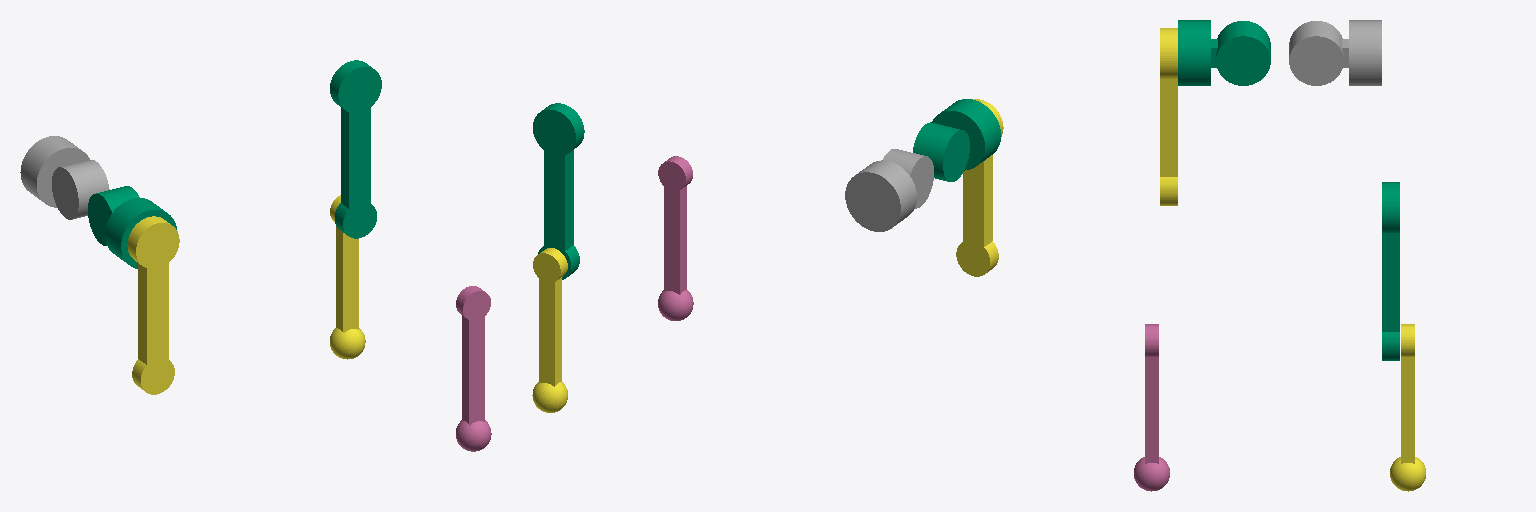
URDF robot description (robot_dog):
<?xml version="1.0"?>
<!-- Generated by tools/generate_description.py from the Fusion export. Do not edit by hand. -->
<robot name="robot_dog">
  <link name="base_link">
    <inertial>
      <origin xyz="0.00620128 0 0.00442227" rpy="0 0 0"/>
      <mass value="4.13176"/>
      <inertia ixx="0.00788716" ixy="0" ixz="-0.00161128" iyy="0.0506551" iyz="0" izz="0.0512174"/>
    </inertial>
    <visual>
      <origin xyz="0 0 0" rpy="0 0 0"/>
      <geometry><mesh filename="../meshes/base_link.stl"/></geometry>
    </visual>
    <collision name="base_link_collision_0">
      <origin xyz="0 0 0" rpy="0 0 0"/>
      <geometry><box size="0.34 0.11 0.09"/></geometry>
    </collision>
  </link>
  <link name="FL_hip">
    <inertial>
      <origin xyz="0 0.0305117 0" rpy="0 0 0"/>
      <mass value="0.71172"/>
      <inertia ixx="0.000811641" ixy="0" ixz="0" iyy="0.000366936" iyz="0" izz="0.0007836"/>
    </inertial>
    <visual>
      <origin xyz="0 0 0" rpy="0 0 0"/>
      <geometry><mesh filename="../meshes/FL_hip.stl"/></geometry>
    </visual>
    <collision name="FL_hip_collision_0">
      <origin xyz="0 0 0" rpy="0 1.5708 0"/>
      <geometry><cylinder radius="0.03" length="0.04"/></geometry>
    </collision>
    <collision name="FL_hip_collision_1">
      <origin xyz="0 0.054 0" rpy="1.5708 0 0"/>
      <geometry><cylinder radius="0.036" length="0.036"/></geometry>
    </collision>
  </link>
  <link name="FL_thigh">
    <inertial>
      <origin xyz="0 -0.0185 -0.070855" rpy="0 0 0"/>
      <mass value="0.366391"/>
      <inertia ixx="0.00149621" ixy="0" ixz="0" iyy="0.0015302" iyz="0" izz="5.60281e-05"/>
    </inertial>
    <visual>
      <origin xyz="0 0 0" rpy="0 0 0"/>
      <geometry><mesh filename="../meshes/FL_thigh.stl"/></geometry>
    </visual>
    <collision name="FL_thigh_collision_0">
      <origin xyz="0 -0.0185 -0.08" rpy="0 0 0"/>
      <geometry><box size="0.028 0.019 0.16"/></geometry>
    </collision>
  </link>
  <link name="FL_calf">
    <inertial>
      <origin xyz="0 0 -0.095732" rpy="0 0 0"/>
      <mass value="0.0969247"/>
      <inertia ixx="0.000379881" ixy="0" ixz="0" iyy="0.000381502" iyz="0" izz="9.4131e-06"/>
    </inertial>
    <visual>
      <origin xyz="0 0 0" rpy="0 0 0"/>
      <geometry><mesh filename="../meshes/FL_calf.stl"/></geometry>
    </visual>
    <collision name="FL_calf_collision_0">
      <origin xyz="0 0 -0.07" rpy="0 0 0"/>
      <geometry><box size="0.02 0.016 0.14"/></geometry>
    </collision>
    <collision name="FL_foot_collision">
      <origin xyz="0 0 -0.16" rpy="0 0 0"/>
      <geometry><sphere radius="0.02"/></geometry>
    </collision>
  </link>
  <link name="FR_hip">
    <inertial>
      <origin xyz="0 -0.0305117 0" rpy="0 0 0"/>
      <mass value="0.71172"/>
      <inertia ixx="0.000811641" ixy="0" ixz="0" iyy="0.000366936" iyz="0" izz="0.0007836"/>
    </inertial>
    <visual>
      <origin xyz="0 0 0" rpy="0 0 0"/>
      <geometry><mesh filename="../meshes/FR_hip.stl"/></geometry>
    </visual>
    <collision name="FR_hip_collision_0">
      <origin xyz="0 0 0" rpy="0 1.5708 0"/>
      <geometry><cylinder radius="0.03" length="0.04"/></geometry>
    </collision>
    <collision name="FR_hip_collision_1">
      <origin xyz="0 -0.054 0" rpy="1.5708 0 0"/>
      <geometry><cylinder radius="0.036" length="0.036"/></geometry>
    </collision>
  </link>
  <link name="FR_thigh">
    <inertial>
      <origin xyz="0 0.0185 -0.070855" rpy="0 0 0"/>
      <mass value="0.366391"/>
      <inertia ixx="0.00149621" ixy="0" ixz="0" iyy="0.0015302" iyz="0" izz="5.60281e-05"/>
    </inertial>
    <visual>
      <origin xyz="0 0 0" rpy="0 0 0"/>
      <geometry><mesh filename="../meshes/FR_thigh.stl"/></geometry>
    </visual>
    <collision name="FR_thigh_collision_0">
      <origin xyz="0 0.0185 -0.08" rpy="0 0 0"/>
      <geometry><box size="0.028 0.019 0.16"/></geometry>
    </collision>
  </link>
  <link name="FR_calf">
    <inertial>
      <origin xyz="0 0 -0.095732" rpy="0 0 0"/>
      <mass value="0.0969247"/>
      <inertia ixx="0.000379881" ixy="0" ixz="0" iyy="0.000381502" iyz="0" izz="9.4131e-06"/>
    </inertial>
    <visual>
      <origin xyz="0 0 0" rpy="0 0 0"/>
      <geometry><mesh filename="../meshes/FR_calf.stl"/></geometry>
    </visual>
    <collision name="FR_calf_collision_0">
      <origin xyz="0 0 -0.07" rpy="0 0 0"/>
      <geometry><box size="0.02 0.016 0.14"/></geometry>
    </collision>
    <collision name="FR_foot_collision">
      <origin xyz="0 0 -0.16" rpy="0 0 0"/>
      <geometry><sphere radius="0.02"/></geometry>
    </collision>
  </link>
  <link name="RL_hip">
    <inertial>
      <origin xyz="0 0.0305117 0" rpy="0 0 0"/>
      <mass value="0.71172"/>
      <inertia ixx="0.000811641" ixy="0" ixz="0" iyy="0.000366936" iyz="0" izz="0.0007836"/>
    </inertial>
    <visual>
      <origin xyz="0 0 0" rpy="0 0 0"/>
      <geometry><mesh filename="../meshes/RL_hip.stl"/></geometry>
    </visual>
    <collision name="RL_hip_collision_0">
      <origin xyz="0 0 0" rpy="0 1.5708 0"/>
      <geometry><cylinder radius="0.03" length="0.04"/></geometry>
    </collision>
    <collision name="RL_hip_collision_1">
      <origin xyz="0 0.054 0" rpy="1.5708 0 0"/>
      <geometry><cylinder radius="0.036" length="0.036"/></geometry>
    </collision>
  </link>
  <link name="RL_thigh">
    <inertial>
      <origin xyz="0 -0.0185 -0.070855" rpy="0 0 0"/>
      <mass value="0.366391"/>
      <inertia ixx="0.00149621" ixy="0" ixz="0" iyy="0.0015302" iyz="0" izz="5.60281e-05"/>
    </inertial>
    <visual>
      <origin xyz="0 0 0" rpy="0 0 0"/>
      <geometry><mesh filename="../meshes/RL_thigh.stl"/></geometry>
    </visual>
    <collision name="RL_thigh_collision_0">
      <origin xyz="0 -0.0185 -0.08" rpy="0 0 0"/>
      <geometry><box size="0.028 0.019 0.16"/></geometry>
    </collision>
  </link>
  <link name="RL_calf">
    <inertial>
      <origin xyz="0 0 -0.095732" rpy="0 0 0"/>
      <mass value="0.0969247"/>
      <inertia ixx="0.000379881" ixy="0" ixz="0" iyy="0.000381502" iyz="0" izz="9.4131e-06"/>
    </inertial>
    <visual>
      <origin xyz="0 0 0" rpy="0 0 0"/>
      <geometry><mesh filename="../meshes/RL_calf.stl"/></geometry>
    </visual>
    <collision name="RL_calf_collision_0">
      <origin xyz="0 0 -0.07" rpy="0 0 0"/>
      <geometry><box size="0.02 0.016 0.14"/></geometry>
    </collision>
    <collision name="RL_foot_collision">
      <origin xyz="0 0 -0.16" rpy="0 0 0"/>
      <geometry><sphere radius="0.02"/></geometry>
    </collision>
  </link>
  <link name="RR_hip">
    <inertial>
      <origin xyz="0 -0.0305117 0" rpy="0 0 0"/>
      <mass value="0.71172"/>
      <inertia ixx="0.000811641" ixy="0" ixz="0" iyy="0.000366936" iyz="0" izz="0.0007836"/>
    </inertial>
    <visual>
      <origin xyz="0 0 0" rpy="0 0 0"/>
      <geometry><mesh filename="../meshes/RR_hip.stl"/></geometry>
    </visual>
    <collision name="RR_hip_collision_0">
      <origin xyz="0 0 0" rpy="0 1.5708 0"/>
      <geometry><cylinder radius="0.03" length="0.04"/></geometry>
    </collision>
    <collision name="RR_hip_collision_1">
      <origin xyz="0 -0.054 0" rpy="1.5708 0 0"/>
      <geometry><cylinder radius="0.036" length="0.036"/></geometry>
    </collision>
  </link>
  <link name="RR_thigh">
    <inertial>
      <origin xyz="0 0.0185 -0.070855" rpy="0 0 0"/>
      <mass value="0.366391"/>
      <inertia ixx="0.00149621" ixy="0" ixz="0" iyy="0.0015302" iyz="0" izz="5.60281e-05"/>
    </inertial>
    <visual>
      <origin xyz="0 0 0" rpy="0 0 0"/>
      <geometry><mesh filename="../meshes/RR_thigh.stl"/></geometry>
    </visual>
    <collision name="RR_thigh_collision_0">
      <origin xyz="0 0.0185 -0.08" rpy="0 0 0"/>
      <geometry><box size="0.028 0.019 0.16"/></geometry>
    </collision>
  </link>
  <link name="RR_calf">
    <inertial>
      <origin xyz="0 0 -0.095732" rpy="0 0 0"/>
      <mass value="0.0969247"/>
      <inertia ixx="0.000379881" ixy="0" ixz="0" iyy="0.000381502" iyz="0" izz="9.4131e-06"/>
    </inertial>
    <visual>
      <origin xyz="0 0 0" rpy="0 0 0"/>
      <geometry><mesh filename="../meshes/RR_calf.stl"/></geometry>
    </visual>
    <collision name="RR_calf_collision_0">
      <origin xyz="0 0 -0.07" rpy="0 0 0"/>
      <geometry><box size="0.02 0.016 0.14"/></geometry>
    </collision>
    <collision name="RR_foot_collision">
      <origin xyz="0 0 -0.16" rpy="0 0 0"/>
      <geometry><sphere radius="0.02"/></geometry>
    </collision>
  </link>
  <joint name="FL_hip_joint" type="revolute">
    <parent link="base_link"/>
    <child link="FL_hip"/>
    <origin xyz="0.2 0.04 0" rpy="0 0 0"/>
    <axis xyz="1 0 0"/>
    <limit lower="-0.8" upper="0.8" effort="25" velocity="30"/>
    <dynamics damping="0" friction="0"/>
  </joint>
  <joint name="FL_thigh_joint" type="revolute">
    <parent link="FL_hip"/>
    <child link="FL_thigh"/>
    <origin xyz="0 0.1 0" rpy="0 0 0"/>
    <axis xyz="0 1 0"/>
    <limit lower="-1.57" upper="3.49" effort="25" velocity="30"/>
    <dynamics damping="0" friction="0"/>
  </joint>
  <joint name="FL_calf_joint" type="revolute">
    <parent link="FL_thigh"/>
    <child link="FL_calf"/>
    <origin xyz="0 0 -0.16" rpy="0 0 0"/>
    <axis xyz="0 1 0"/>
    <limit lower="-2.7" upper="0" effort="25" velocity="30"/>
    <dynamics damping="0" friction="0"/>
  </joint>
  <joint name="FR_hip_joint" type="revolute">
    <parent link="base_link"/>
    <child link="FR_hip"/>
    <origin xyz="0.2 -0.04 0" rpy="0 0 0"/>
    <axis xyz="1 0 0"/>
    <limit lower="-0.8" upper="0.8" effort="25" velocity="30"/>
    <dynamics damping="0" friction="0"/>
  </joint>
  <joint name="FR_thigh_joint" type="revolute">
    <parent link="FR_hip"/>
    <child link="FR_thigh"/>
    <origin xyz="0 -0.1 0" rpy="0 0 0"/>
    <axis xyz="0 1 0"/>
    <limit lower="-1.57" upper="3.49" effort="25" velocity="30"/>
    <dynamics damping="0" friction="0"/>
  </joint>
  <joint name="FR_calf_joint" type="revolute">
    <parent link="FR_thigh"/>
    <child link="FR_calf"/>
    <origin xyz="0 0 -0.16" rpy="0 0 0"/>
    <axis xyz="0 1 0"/>
    <limit lower="-2.7" upper="0" effort="25" velocity="30"/>
    <dynamics damping="0" friction="0"/>
  </joint>
  <joint name="RL_hip_joint" type="revolute">
    <parent link="base_link"/>
    <child link="RL_hip"/>
    <origin xyz="-0.2 0.04 0" rpy="0 0 0"/>
    <axis xyz="1 0 0"/>
    <limit lower="-0.8" upper="0.8" effort="25" velocity="30"/>
    <dynamics damping="0" friction="0"/>
  </joint>
  <joint name="RL_thigh_joint" type="revolute">
    <parent link="RL_hip"/>
    <child link="RL_thigh"/>
    <origin xyz="0 0.1 0" rpy="0 0 0"/>
    <axis xyz="0 1 0"/>
    <limit lower="-1.57" upper="3.49" effort="25" velocity="30"/>
    <dynamics damping="0" friction="0"/>
  </joint>
  <joint name="RL_calf_joint" type="revolute">
    <parent link="RL_thigh"/>
    <child link="RL_calf"/>
    <origin xyz="0 0 -0.16" rpy="0 0 0"/>
    <axis xyz="0 1 0"/>
    <limit lower="-2.7" upper="0" effort="25" velocity="30"/>
    <dynamics damping="0" friction="0"/>
  </joint>
  <joint name="RR_hip_joint" type="revolute">
    <parent link="base_link"/>
    <child link="RR_hip"/>
    <origin xyz="-0.2 -0.04 0" rpy="0 0 0"/>
    <axis xyz="1 0 0"/>
    <limit lower="-0.8" upper="0.8" effort="25" velocity="30"/>
    <dynamics damping="0" friction="0"/>
  </joint>
  <joint name="RR_thigh_joint" type="revolute">
    <parent link="RR_hip"/>
    <child link="RR_thigh"/>
    <origin xyz="0 -0.1 0" rpy="0 0 0"/>
    <axis xyz="0 1 0"/>
    <limit lower="-1.57" upper="3.49" effort="25" velocity="30"/>
    <dynamics damping="0" friction="0"/>
  </joint>
  <joint name="RR_calf_joint" type="revolute">
    <parent link="RR_thigh"/>
    <child link="RR_calf"/>
    <origin xyz="0 0 -0.16" rpy="0 0 0"/>
    <axis xyz="0 1 0"/>
    <limit lower="-2.7" upper="0" effort="25" velocity="30"/>
    <dynamics damping="0" friction="0"/>
  </joint>
</robot>

--- Render facts (derived) ---
Views: 3 orthographic renders of the robot side by side, from view 1: azimuth 30°, elevation 25°; view 2: azimuth 150°, elevation 25°; view 3: azimuth 270°, elevation 25°.
Robot: robot_dog — 13 links, 12 joints (12 revolute); root link base_link; default pose: every joint at zero.
Visible links, largest first — view 1: RR_thigh, FL_thigh, RL_hip, FR_calf, RR_hip, FL_calf; view 2: FL_thigh, RL_hip, RR_hip, FR_calf, FL_calf, RR_thigh; view 3: RL_hip, RR_hip, FL_thigh, RR_thigh, FL_calf, FR_calf.
Link boxes in pixels (box(x1,y1,x2,y2)): RR_thigh: box(127, 216, 179, 394); FL_thigh: box(330, 60, 381, 238); RL_hip: box(20, 136, 109, 219); FR_calf: box(456, 286, 491, 451); RR_hip: box(88, 186, 176, 268); FL_calf: box(330, 195, 365, 359); FL_thigh: box(533, 103, 584, 279); RL_hip: box(845, 149, 933, 231); RR_hip: box(913, 99, 1000, 181); FR_calf: box(658, 156, 693, 320); FL_calf: box(532, 248, 567, 412); RR_thigh: box(956, 99, 1003, 276); RL_hip: box(1289, 20, 1381, 85); RR_hip: box(1178, 20, 1270, 85); FL_thigh: box(1382, 182, 1399, 360); RR_thigh: box(1160, 28, 1177, 205); FL_calf: box(1390, 324, 1425, 491); FR_calf: box(1134, 324, 1169, 491).
Bounding box of the posed robot: 464 × 320 × 376 m (x, y, z).
Meshes: 13 distinct files referenced, 10 mesh visuals loaded (10 binary STL); not drawn: 3 (reference not matched to a file when rendering).
